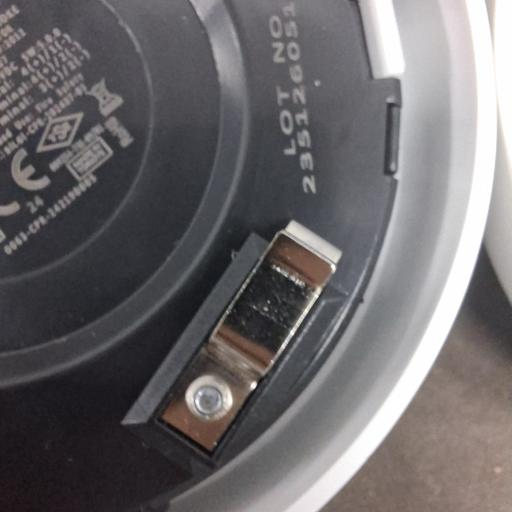yayli: (147, 222, 338, 457)
